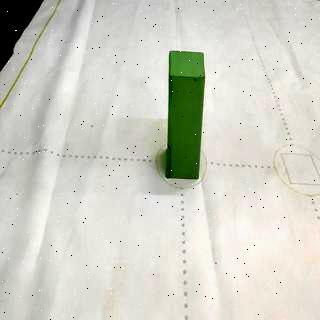greenbox: (166, 50, 204, 179)
